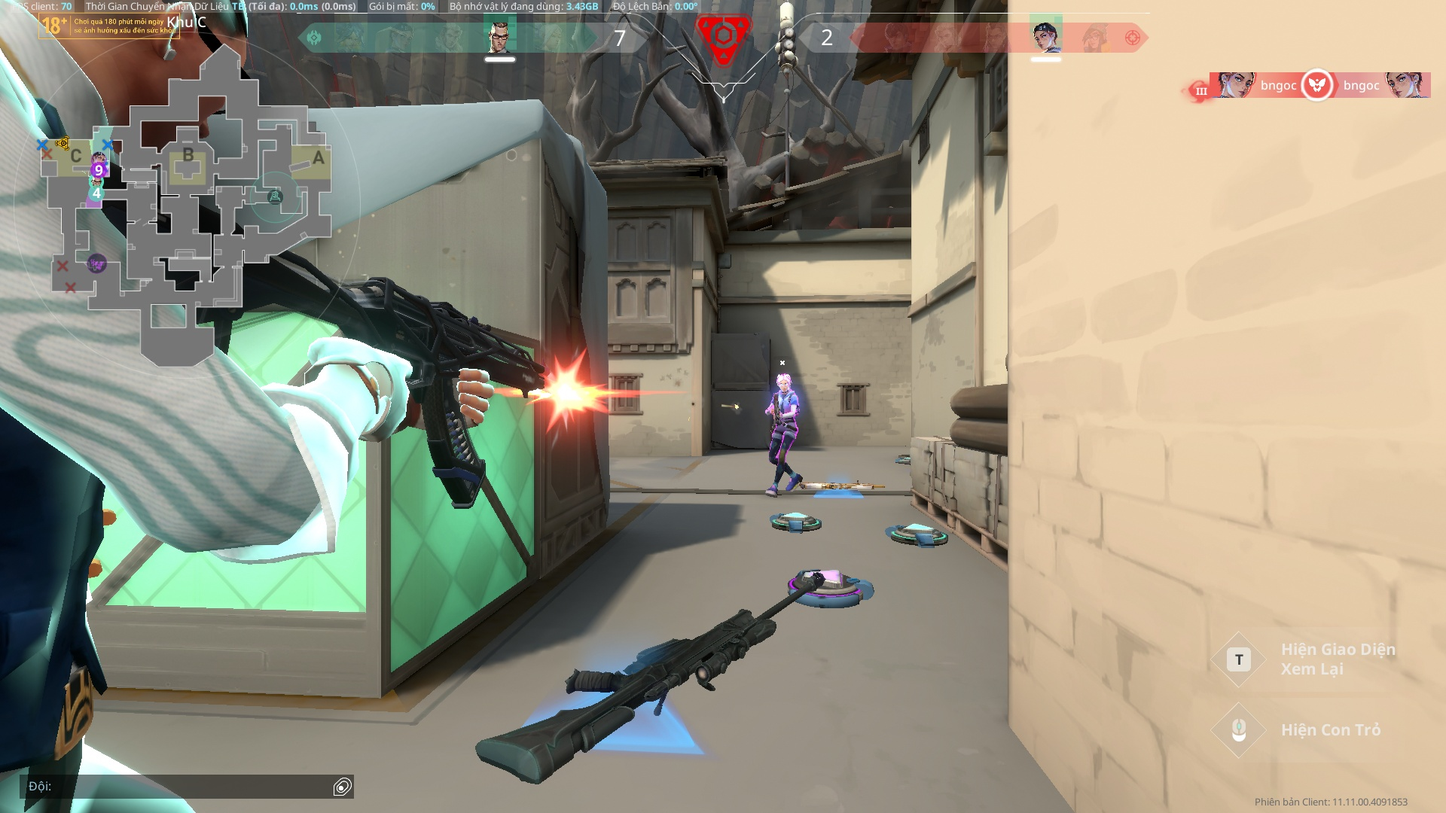body: (771, 388, 798, 420)
head: (774, 371, 791, 391)
